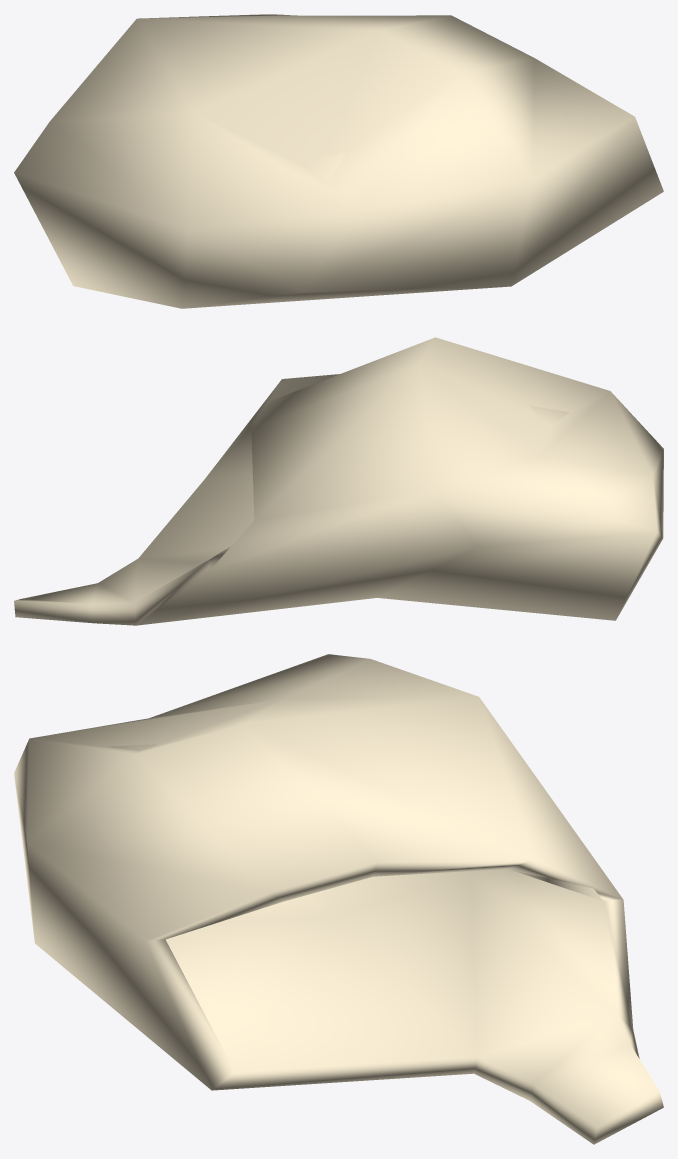
Rendered from plasticBag.fbx.
The picture shows the model from 3 angles, top to bottom: view 1: azimuth 30°, elevation 25°; view 2: azimuth 150°, elevation 25°; view 3: azimuth 270°, elevation 25°; orthographic projection. The views are drawn at different scales.
Parts seen in each view (by area): view 1: Cube.005; view 2: Cube.005; view 3: Cube.005.
Boxes of the visible parts, <box> form: Cube.005: <box>14,14,663,308</box>; Cube.005: <box>14,337,663,625</box>; Cube.005: <box>14,654,663,1144</box>.
Bounding box in the file's own units: 70.38 × 26.43 × 59.4.
